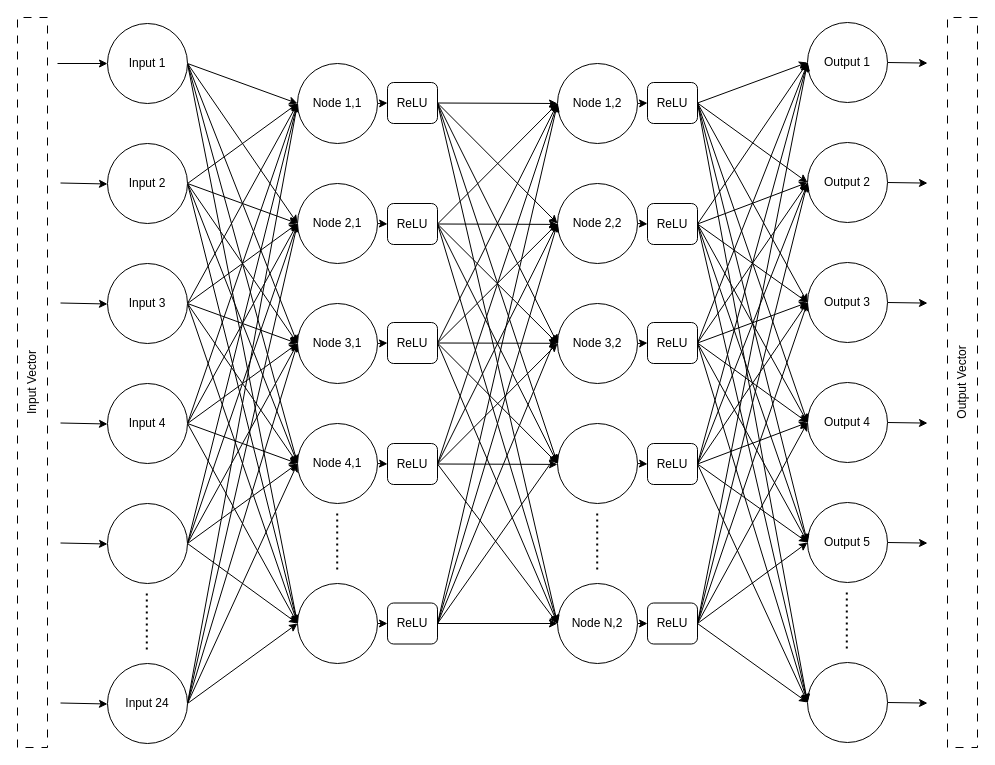
The diagram is 995 pixels wide and 765 high, and some of its shapes have lost their labels. The shapes that lost their labels are listed below. From the top down, each one's centre as x and y in pixels, then its label:
the point at 597,463: Node 4,2
the point at 147,543: Input 5
the point at 337,623: Node N, 1
the point at 847,702: Output 6
